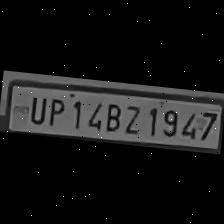1: (64, 94, 86, 130), (141, 104, 160, 136)
4: (82, 97, 105, 131), (177, 106, 200, 140)
7: (196, 106, 217, 142)
9: (157, 105, 180, 138)
B: (100, 99, 122, 133)
P: (44, 94, 68, 128)
U: (24, 92, 48, 124)
Z: (119, 101, 144, 135)
